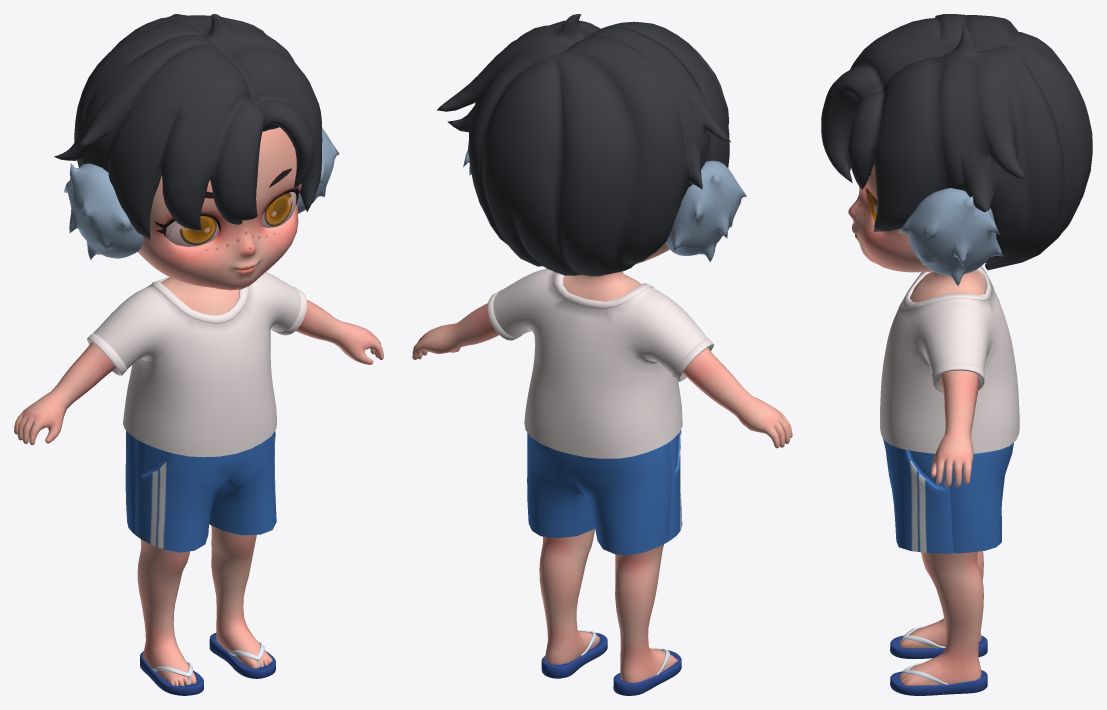
The model's file is m_hair_09.fbx.
3 renders of one model, left to right at view 1: azimuth 30°, elevation 25°; view 2: azimuth 150°, elevation 25°; view 3: azimuth 270°, elevation 25°, orthographic. The views are drawn at different scales.
Parts seen in each view (by area): view 1: m_hair_09, shangbanshen, xiabanshen, head, foot, hand; view 2: m_hair_09, shangbanshen, xiabanshen, foot, hand; view 3: m_hair_09, shangbanshen, xiabanshen, foot, head, hand.
Boxes of the visible parts, left/top/right/bottom form: m_hair_09: left=54, top=14, right=339, bottom=260; shangbanshen: left=51, top=272, right=345, bottom=457; xiabanshen: left=125, top=430, right=276, bottom=649; head: left=138, top=127, right=301, bottom=290; foot: left=140, top=625, right=275, bottom=695; hand: left=14, top=321, right=383, bottom=445; m_hair_09: left=437, top=14, right=746, bottom=276; shangbanshen: left=449, top=268, right=751, bottom=458; xiabanshen: left=527, top=430, right=682, bottom=663; foot: left=541, top=629, right=681, bottom=695; hand: left=412, top=323, right=792, bottom=448; m_hair_09: left=821, top=14, right=1092, bottom=286; shangbanshen: left=880, top=266, right=1019, bottom=453; xiabanshen: left=883, top=438, right=1013, bottom=664; foot: left=890, top=619, right=987, bottom=695; head: left=848, top=164, right=985, bottom=272; hand: left=931, top=430, right=973, bottom=486.
Bounding box in the file's own units: 120 × 205 × 77.46.
6 materials, 6 textured.
